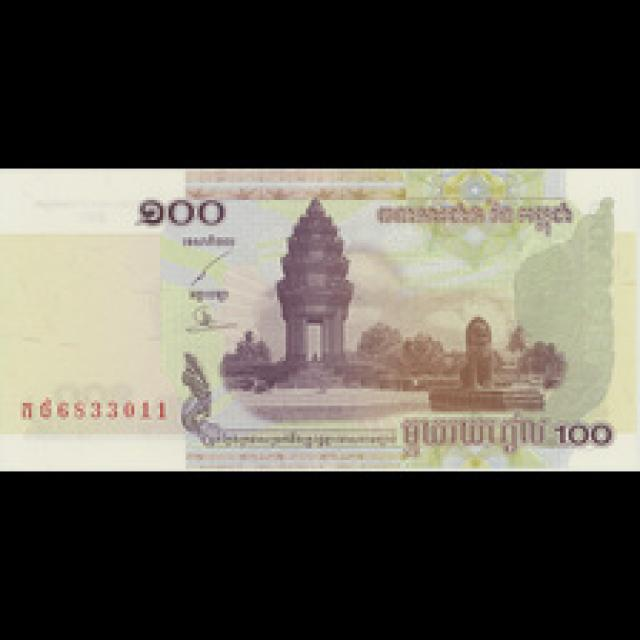banknote: (1, 165, 640, 474), (547, 413, 622, 458)
